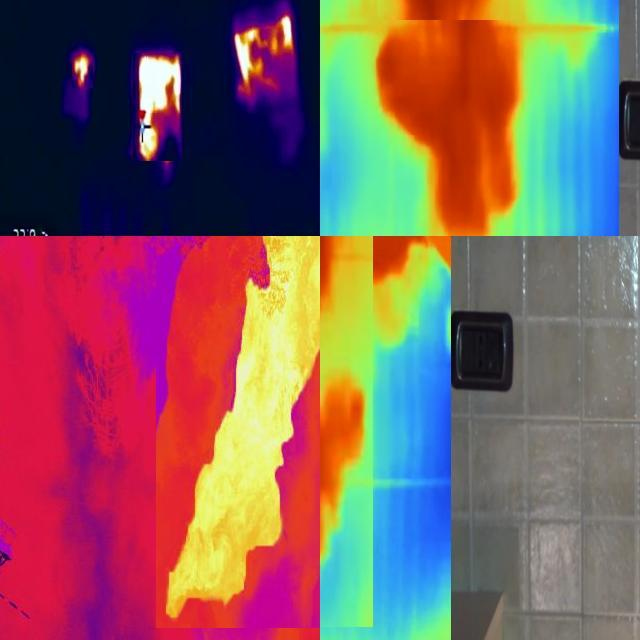fire: (166, 239, 322, 621), (321, 237, 374, 628), (442, 36, 499, 202), (134, 55, 183, 163), (234, 18, 261, 102), (73, 51, 94, 89), (281, 14, 297, 56)
